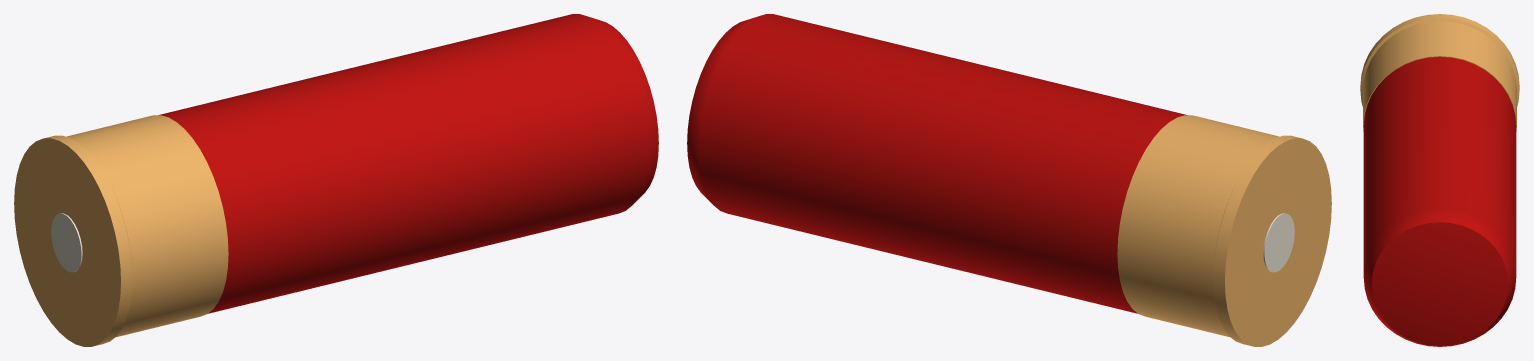
File: estojo.obj
3 renders of one model, left to right at view 1: azimuth 30°, elevation 25°; view 2: azimuth 150°, elevation 25°; view 3: azimuth 270°, elevation 25°, orthographic. The views are drawn at different scales.
Size of the model in its own units: 0.2526 by 0.0848 by 0.0848.
